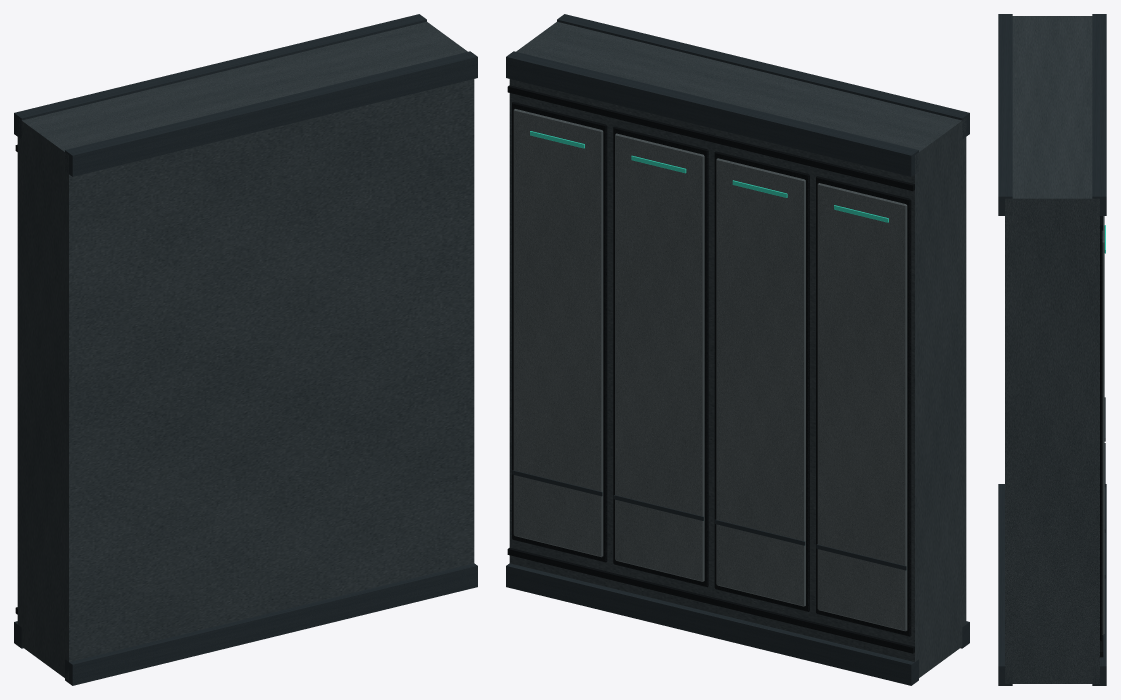
Rendered from arena_wall.glb.
The picture shows the model from 3 angles, left to right: view 1: azimuth 30°, elevation 25°; view 2: azimuth 150°, elevation 25°; view 3: azimuth 270°, elevation 25°; orthographic projection. The views are drawn at different scales.
Parts seen in each view (by area): view 1: arena_wall; view 2: arena_wall; view 3: arena_wall.
Boxes of the visible parts, bbox=[...] form: arena_wall: bbox=[14, 14, 477, 685]; arena_wall: bbox=[506, 14, 969, 685]; arena_wall: bbox=[998, 14, 1106, 685].
Size of the model in its own units: 4 by 5 by 1.
1 material, 1 textured.
